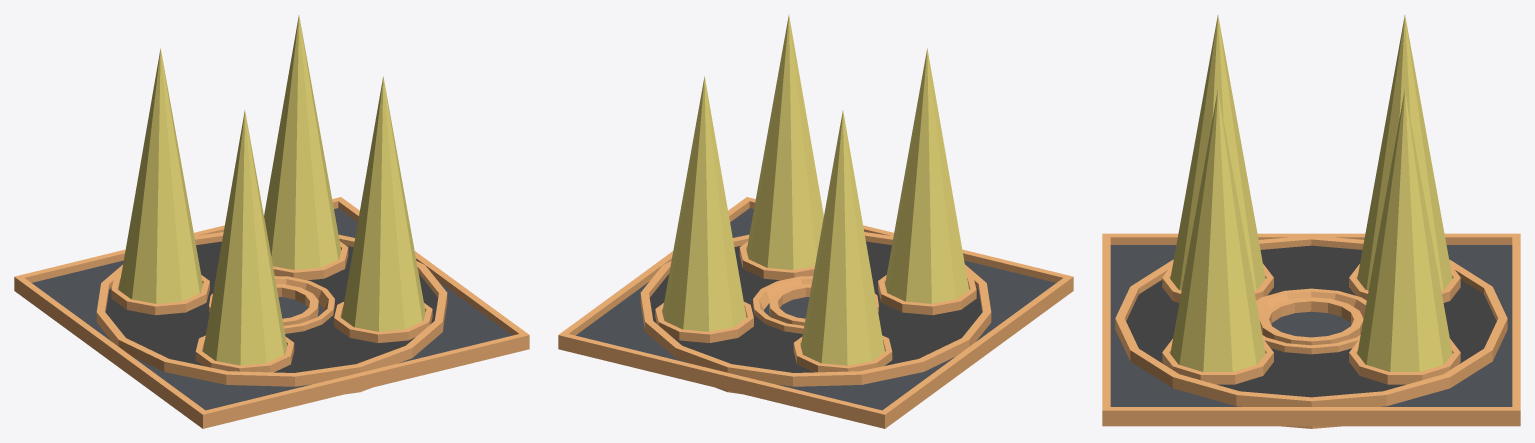
Rendered from SpikeGimmic.fbx.
The picture shows the model from 3 angles, left to right: view 1: azimuth 30°, elevation 25°; view 2: azimuth 150°, elevation 25°; view 3: azimuth 270°, elevation 25°; orthographic projection. The views are drawn at different scales.
Parts seen in each view (by area): view 1: Mesh; view 2: Mesh; view 3: Mesh.
Part boxes in pixels (box(x1,y1,x2,y2)): Mesh: box(14, 15, 529, 428); Mesh: box(558, 15, 1073, 428); Mesh: box(1102, 15, 1520, 428).
Size of the model in its own units: 1 by 0.8183 by 1.
